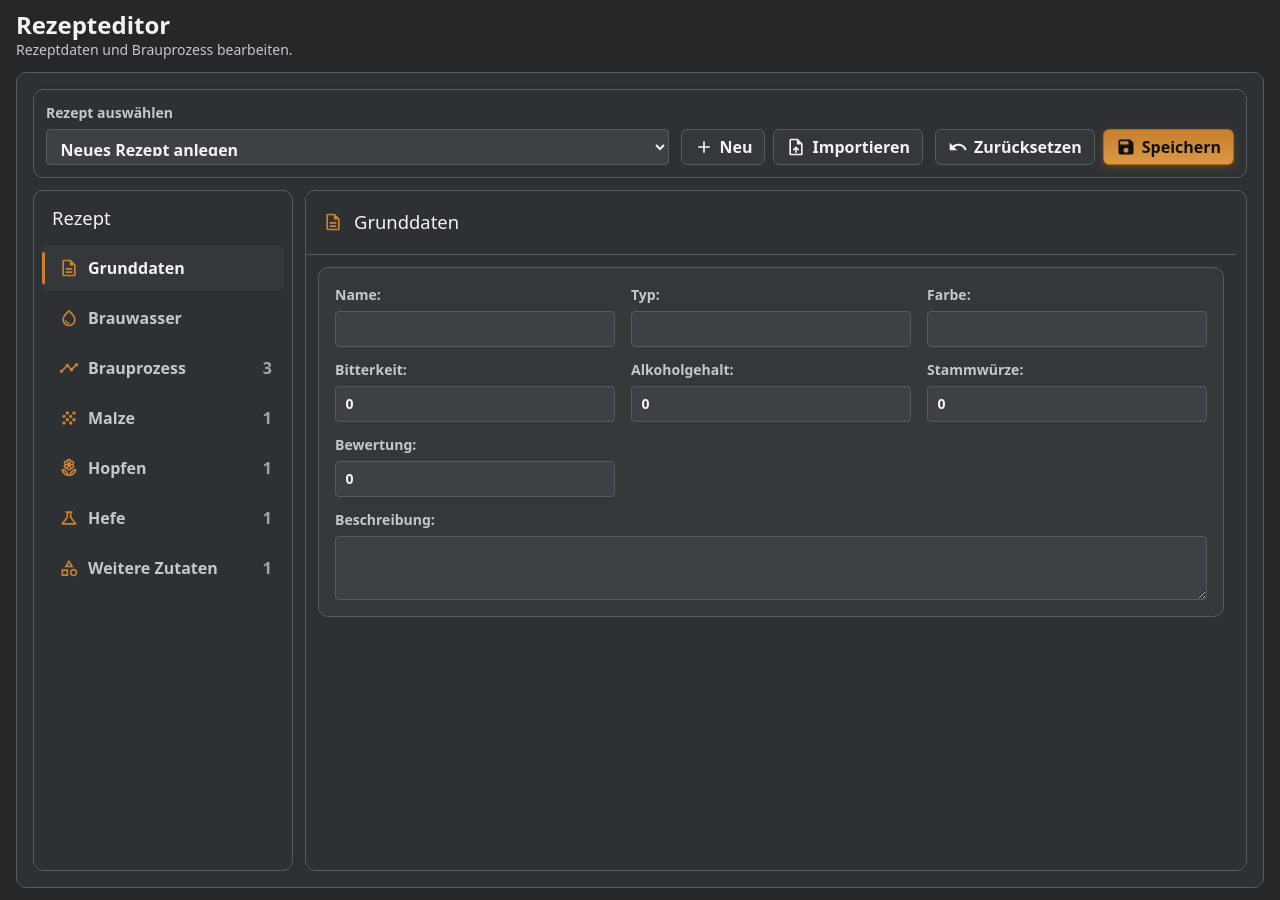
Test: BeerForm section navigation › shows only phase-relevant fields for additional ingredients
Step 1. Click the button "Weitere Zutaten 1" → (163, 568), box [42,545,284,591]
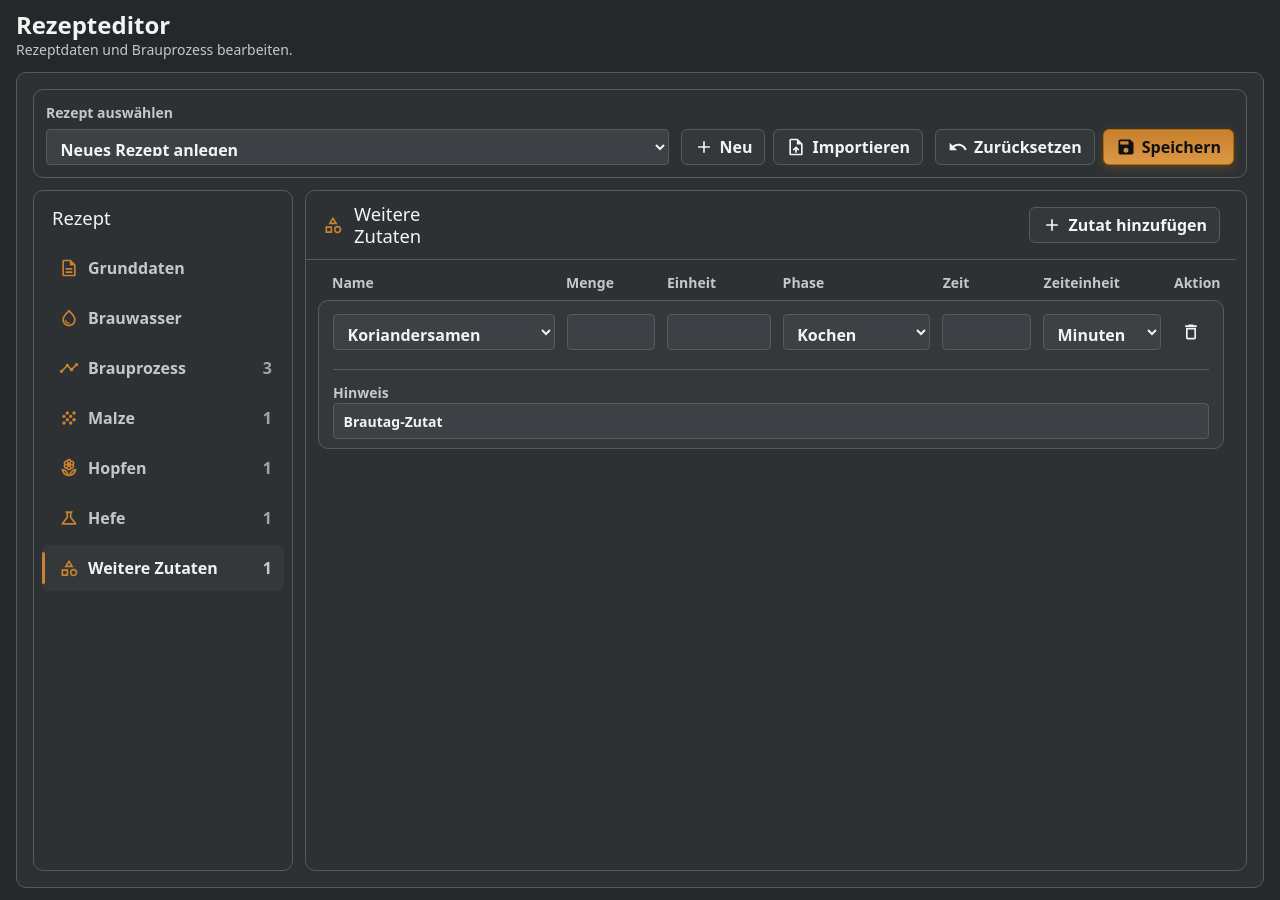
Expected: the field labelled "Trigger" is not shown
Result: the number field named "Zeitangabe" is shown at [942,314,1031,350]
Result: the dropdown labelled "Zeiteinheit" shows "Minuten" at [1043,314,1161,350]
Step 2. Select "Gärung" in the dropdown labelled "Phase" → (856, 332), box [782,314,930,350]
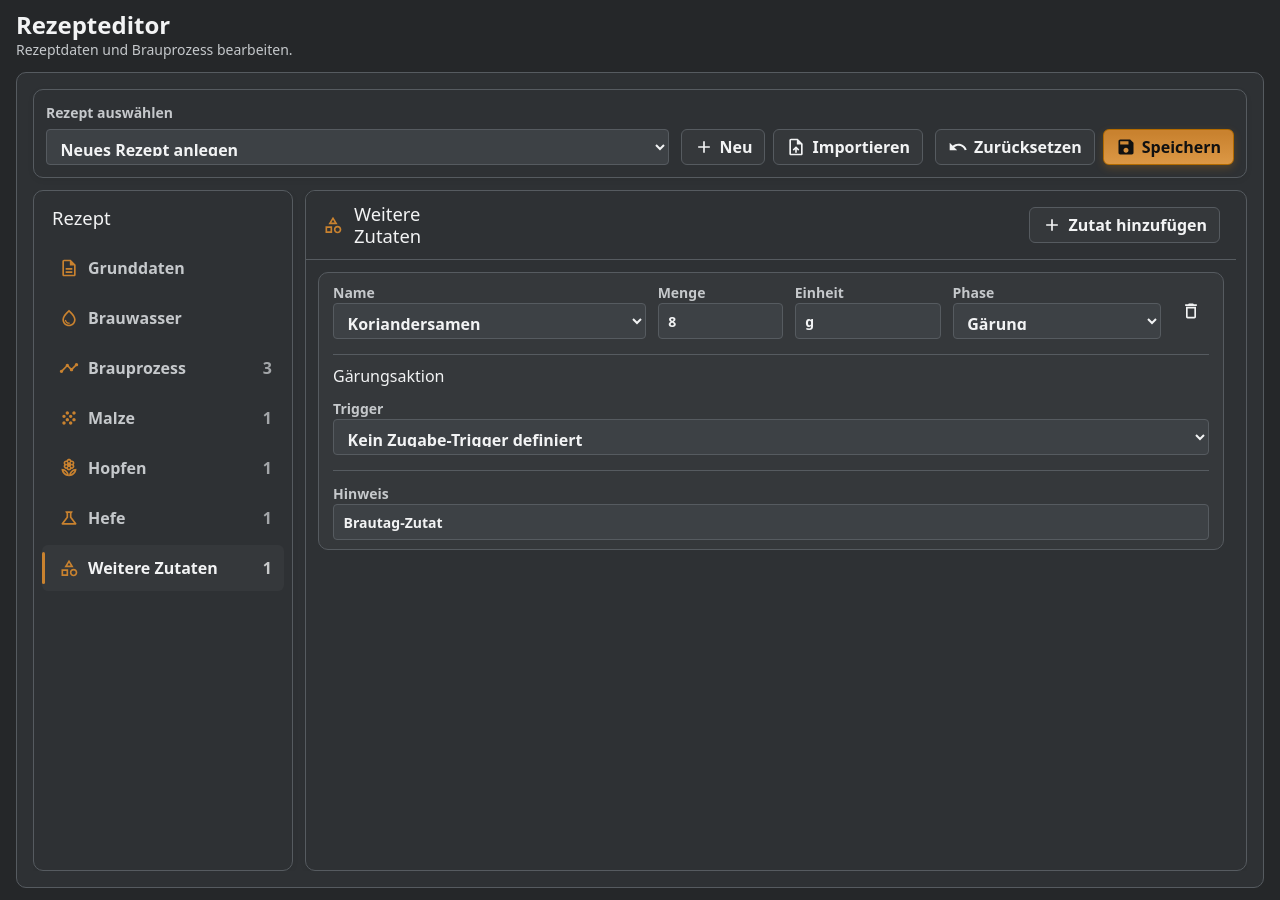
Result: the number field labelled "Zeitangabe" is gone
Result: the dropdown labelled "Trigger" is shown at [333,419,1209,455]
